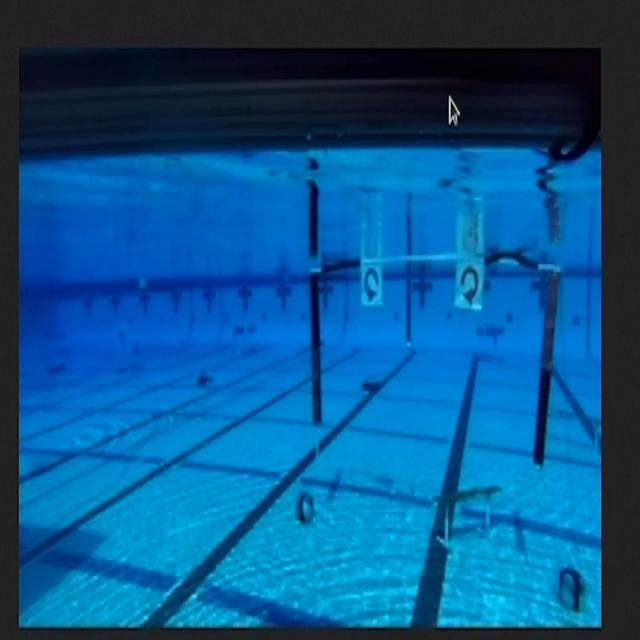Gate: (307, 243, 569, 461)
